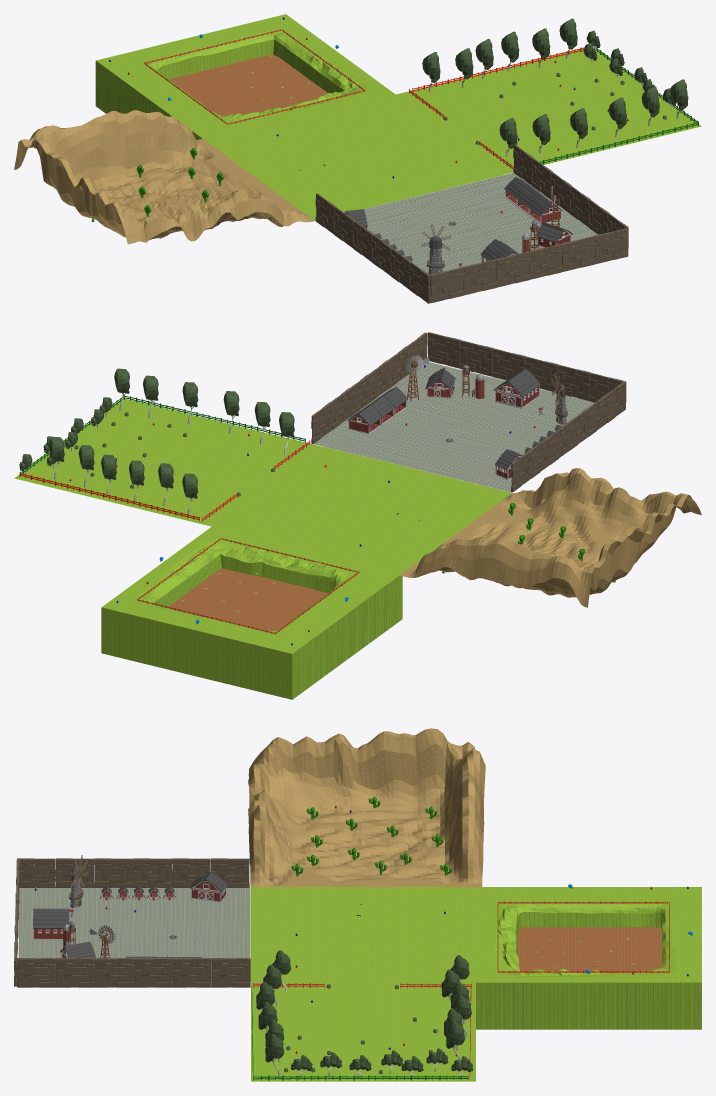
The picture shows the model from 3 angles, top to bottom: view 1: azimuth 30°, elevation 25°; view 2: azimuth 150°, elevation 25°; view 3: azimuth 270°, elevation 25°; orthographic projection. The views are drawn at different scales.
Visible parts, largest first — view 1: dessert, ground, forest, lakeGround, village, Wall_Modular_Cube.001, lake, Buildings, Wall_Modular_Cube.005, Wall_Modular_Cube.000, Fence.001, Fence.000; view 2: lakeGround, ground, dessert, forest, village, lake, Buildings, Wall_Modular_Cube.001, Wall_Modular_Cube.005, Wall_Modular_Cube.000, Fence.000, Fence.001; view 3: dessert, lakeGround, ground, forest, village, Wall_Modular_Cube.000, lake, Wall_Modular_Cube.005, Buildings, Fence.002.
Boxes of the visible parts, x1,y1,x2,y2 form: dessert: (14, 110, 314, 244); ground: (203, 93, 502, 220); forest: (394, 47, 701, 174); lakeGround: (95, 14, 395, 139); village: (343, 173, 598, 300); Wall_Modular_Cube.001: (430, 228, 628, 302); lake: (168, 54, 327, 115); Buildings: (344, 177, 572, 274); Wall_Modular_Cube.005: (315, 193, 430, 303); Wall_Modular_Cube.000: (513, 144, 628, 251); Fence.001: (539, 121, 698, 164); Fence.000: (412, 47, 584, 91); lakeGround: (101, 526, 402, 699); ground: (211, 446, 511, 575); dessert: (400, 468, 701, 607); forest: (14, 398, 322, 526); village: (314, 362, 618, 492); lake: (168, 568, 327, 630); Buildings: (347, 355, 567, 479); Wall_Modular_Cube.001: (427, 332, 623, 402); Wall_Modular_Cube.005: (511, 381, 626, 492); Wall_Modular_Cube.000: (311, 332, 427, 443); Fence.000: (19, 472, 199, 521); Fence.001: (124, 395, 305, 442); dessert: (248, 728, 485, 887); lakeGround: (476, 887, 701, 1029); ground: (250, 887, 482, 981); forest: (251, 981, 475, 1081); village: (18, 887, 250, 987); Wall_Modular_Cube.000: (17, 958, 250, 987); lake: (517, 927, 662, 972); Wall_Modular_Cube.005: (17, 858, 249, 887); Buildings: (33, 855, 227, 980); Fence.002: (254, 1075, 468, 1080).
Bounding box in the file's own units: 303 × 54 × 304.
345 materials, 19 textured.
